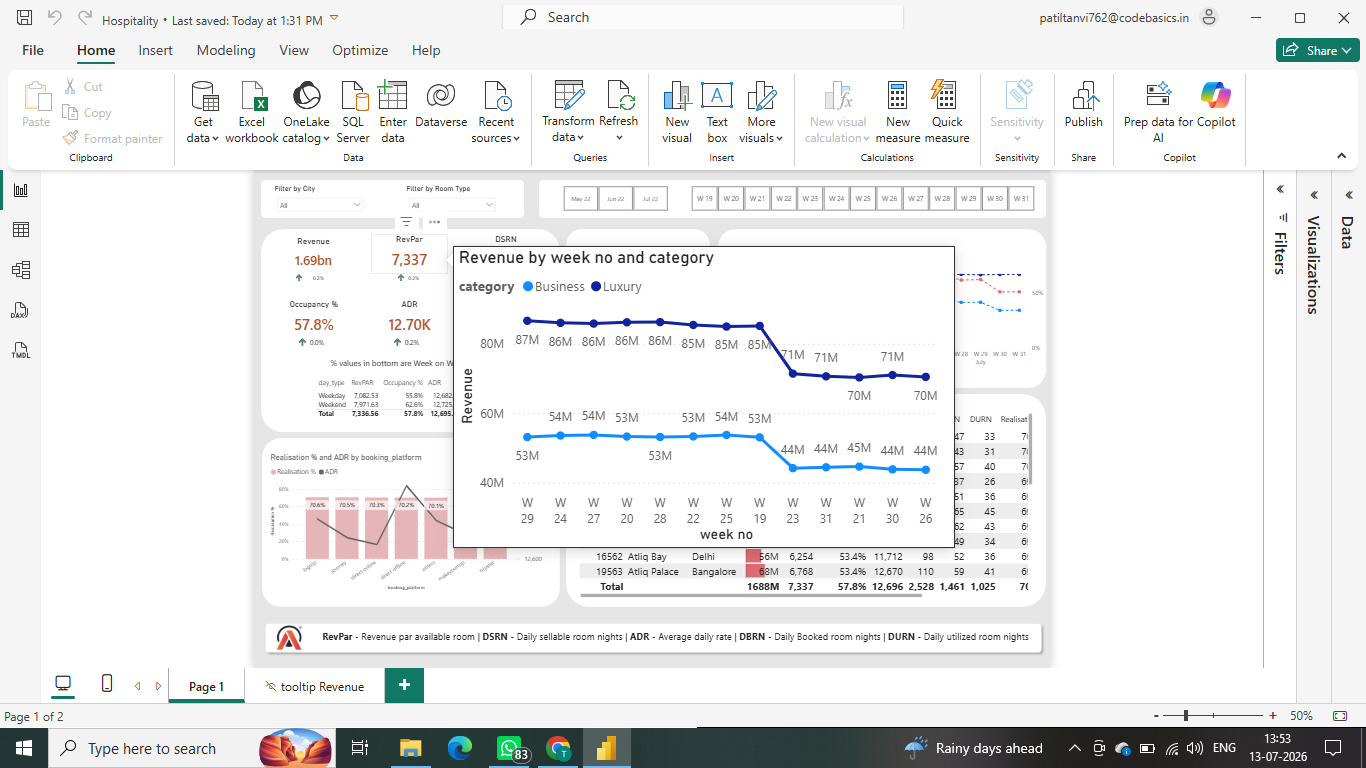

Layout of this report page (visuals, bound fields, positions):
{"tool":"powerbi","page":{"name":"Page 1","canvas":[1600,1000],"ordinal":0},"visuals":[{"type":"shape","box":[572.3,20.1,1018.1,76.3],"z":0},{"type":"shape","box":[626.5,449.8,963.9,427.7],"z":1000},{"type":"shape","box":[16.1,538.2,598.4,339.4],"z":2000},{"type":"shape","box":[931.7,118.5,658.6,319.3],"z":3000},{"type":"shape","box":[626.5,118.5,289.2,319.3],"z":4000},{"type":"shape","box":[13.8,118.8,601.2,408.8],"z":5000},{"type":"shape","box":[14.1,20.1,528.1,76.3],"z":6000},{"type":"tableEx","fields":{"Values":["Key Measures.Revenue WoW change %"]},"box":[72.5,173.8,93.8,70],"z":7000},{"type":"tableEx","title":"Property by Key Metrics","fields":{"Values":["dim_hotels.property_id","dim_hotels.property_name","dim_hotels.city","Key Measures.Revenue","Key Measures.RevPAR","Key Measures.Occupancy %","Key Measures.ADR","Key Measures.DSRN","Key Measures.DBRN","Key Measures.DURN","Key Measures.Realisation %","Key Measures.Cancellation %"]},"box":[648,462,920,402],"z":8000},{"type":"slicer","title":"Filter by City","fields":{"Values":["dim_hotels.city"]},"box":[36.6,29.2,193.8,56.7],"z":9000},{"type":"slicer","title":"Filter by Room Type","fields":{"Values":["dim_rooms.room_class"]},"box":[301.6,29.2,193.8,56.7],"z":10000},{"type":"slicer","fields":{"Values":["dim_date.mmm yy"]},"box":[596,26,258,62],"z":11000},{"type":"slicer","fields":{"Values":["dim_date.week no"]},"box":[853.4,26.1,736.9,62.2],"z":12000},{"type":"donutChart","title":"% Revenue by category","fields":{"Category":["dim_hotels.category"],"Y":["Key Measures.Occupancy %"]},"box":[632.5,148.6,275.1,259],"z":13000},{"type":"lineChart","title":"Trends by Key Metrics","fields":{"Category":["dim_date.mmm yy.Variation.Date Hierarchy.Month","dim_date.week no"],"Y":["Key Measures.RevPAR","Key Measures.ADR"],"Y2":["Key Measures.Occupancy %"]},"box":[941.8,148.6,648.6,259],"z":14000},{"type":"lineStackedColumnComboChart","fields":{"Category":["fact_bookings.booking_platform"],"Y":["Key Measures.Realisation %"],"Y2":["Key Measures.ADR"]},"box":[28.8,567.5,572.5,280],"z":15000},{"type":"tableEx","fields":{"Values":["dim_date.day_type","Key Measures.RevPAR","Key Measures.Occupancy %","Key Measures.ADR","Key Measures.Realisation %"]},"box":[118.8,413.8,422.5,96.2],"z":16000},{"type":"shape","box":[14.1,901.6,1576.3,76.3],"z":17000},{"type":"textbox","box":[132.5,919.7,1439.8,58.2],"z":18000},{"type":"image","box":[36.1,913.7,70.3,50.2],"z":19000},{"type":"textbox","box":[148.6,371.5,363.5,58.2],"z":20000},{"type":"cardVisual","title":"Revenue","fields":{"Data":["Key Measures.Revenue"]},"box":[42.2,132.5,154.6,76.3],"z":22000},{"type":"tableEx","fields":{"Values":["Key Measures.Revpar WoW change %"]},"box":[277.5,173.8,80,70],"z":23000},{"type":"cardVisual","title":"RevPar","fields":{"Data":["Key Measures.RevPAR"]},"box":[234.9,128.5,154.6,80.3],"z":24000},{"type":"tableEx","fields":{"Values":["Key Measures.DSRN WoW change %"]},"box":[463.8,173.8,97.5,73.8],"z":25000},{"type":"cardVisual","title":"DSRN","fields":{"Data":["Key Measures.DSRN"]},"box":[439.8,128.5,132.5,80.3],"z":26000},{"type":"tableEx","fields":{"Values":["Key Measures.Occupancy WoW change %"]},"box":[77.5,302.5,85,68.8],"z":27000},{"type":"cardVisual","title":"Occupancy %","fields":{"Data":["Key Measures.Occupancy %"]},"box":[36.1,259,168.7,78.3],"z":28000},{"type":"tableEx","fields":{"Values":["Key Measures.ADR WoW change %"]},"box":[268.8,302.5,97.5,71.2],"z":29000},{"type":"cardVisual","title":"ADR","fields":{"Data":["Key Measures.ADR"]},"box":[234.9,259,154.6,78.3],"z":30000},{"type":"tableEx","fields":{"Values":["Key Measures.Realisation WoW change %"]},"box":[457.5,300,97.5,71.2],"z":31000},{"type":"cardVisual","title":"Realization %","fields":{"Data":["Key Measures.Realisation %"]},"box":[423.7,259,158.6,78.3],"z":32500}]}

Visuals, with their boxes on the page's 1600x1000 design canvas (x1, y1, x2, y2). These are canvas units, not pixel positions in the 1366x768 screenshot, which may show the page scaled, cropped or inside an application window:
shape: crop(572, 20, 1590, 96)
shape: crop(626, 450, 1590, 878)
shape: crop(16, 538, 614, 878)
shape: crop(932, 118, 1590, 438)
shape: crop(626, 118, 916, 438)
shape: crop(14, 119, 615, 528)
shape: crop(14, 20, 542, 96)
tableEx - Key Measures.Revenue WoW change %: crop(72, 174, 166, 244)
"Property by Key Metrics" tableEx: crop(648, 462, 1568, 864)
"Filter by City" slicer: crop(37, 29, 230, 86)
"Filter by Room Type" slicer: crop(302, 29, 495, 86)
slicer - dim_date.mmm yy: crop(596, 26, 854, 88)
slicer - dim_date.week no: crop(853, 26, 1590, 88)
"% Revenue by category" donutChart: crop(632, 149, 908, 408)
"Trends by Key Metrics" lineChart: crop(942, 149, 1590, 408)
lineStackedColumnComboChart - fact_bookings.booking_platform x Key Measures.Realisation %: crop(29, 568, 601, 848)
tableEx - dim_date.day_type x Key Measures.RevPAR: crop(119, 414, 541, 510)
shape: crop(14, 902, 1590, 978)
textbox: crop(132, 920, 1572, 978)
image: crop(36, 914, 106, 964)
textbox: crop(149, 372, 512, 430)
"Revenue" cardVisual: crop(42, 132, 197, 209)
tableEx - Key Measures.Revpar WoW change %: crop(278, 174, 358, 244)
"RevPar" cardVisual: crop(235, 128, 390, 209)
tableEx - Key Measures.DSRN WoW change %: crop(464, 174, 561, 248)
"DSRN" cardVisual: crop(440, 128, 572, 209)
tableEx - Key Measures.Occupancy WoW change %: crop(78, 302, 162, 371)
"Occupancy %" cardVisual: crop(36, 259, 205, 337)
tableEx - Key Measures.ADR WoW change %: crop(269, 302, 366, 374)
"ADR" cardVisual: crop(235, 259, 390, 337)
tableEx - Key Measures.Realisation WoW change %: crop(458, 300, 555, 371)
"Realization %" cardVisual: crop(424, 259, 582, 337)
